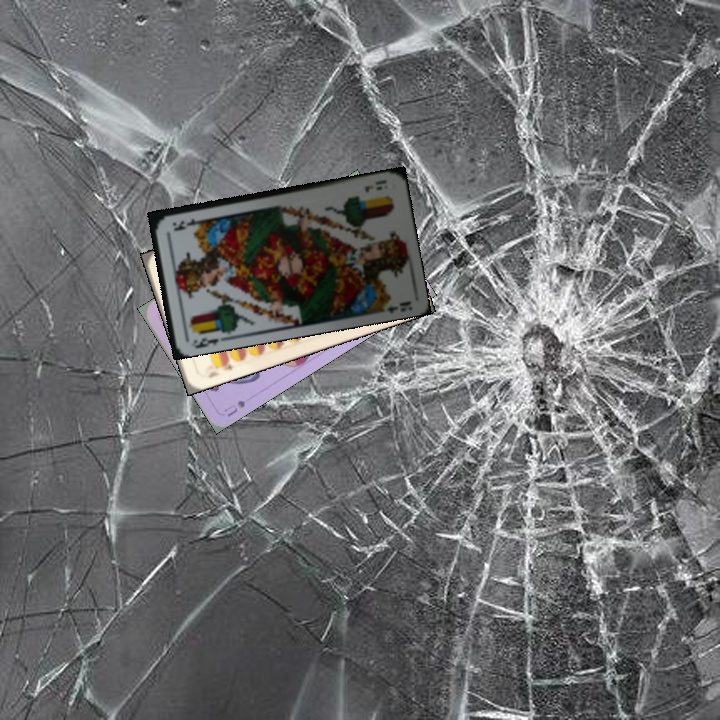E10: (203, 356, 235, 381)
EK: (361, 176, 390, 195), (190, 334, 221, 351)
SU: (220, 396, 248, 419)
